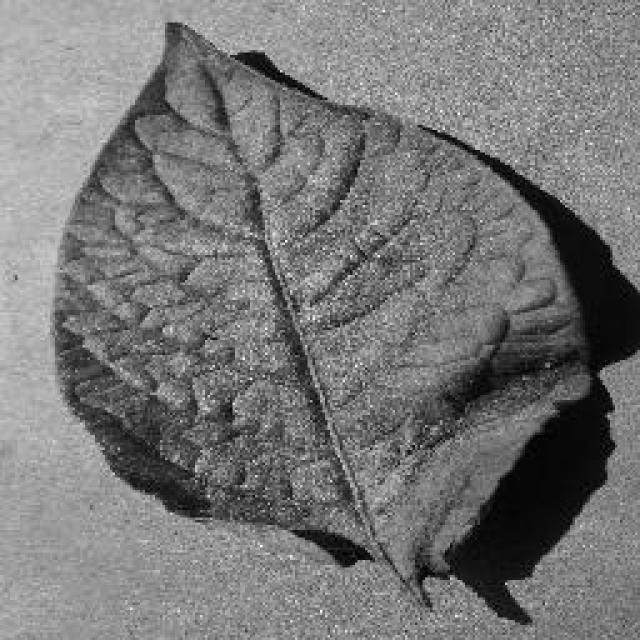Potato: (50, 18, 598, 612)
